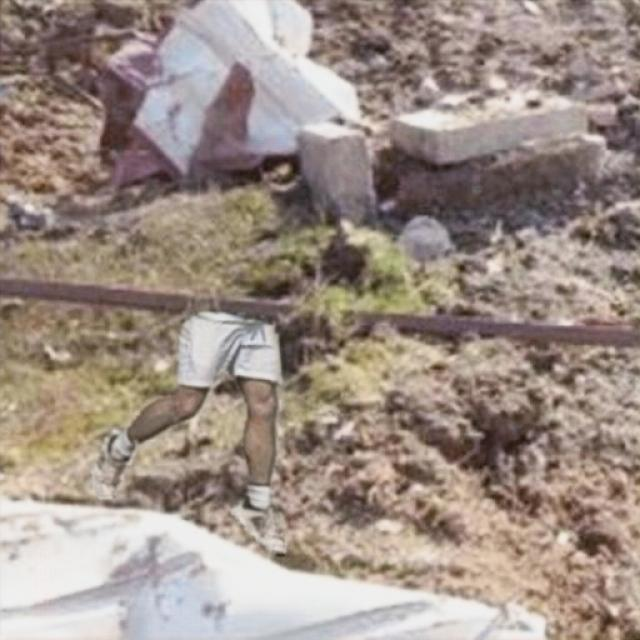Person in Rubble: (90, 312, 285, 556)
